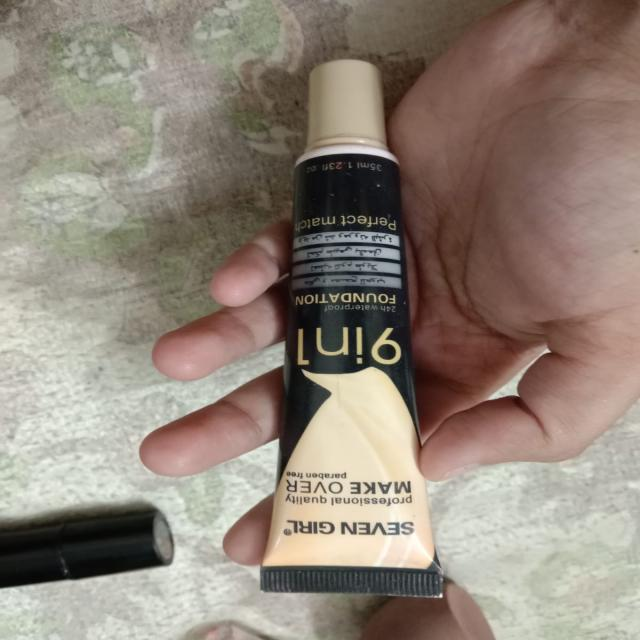bb cream: (241, 47, 468, 622)
